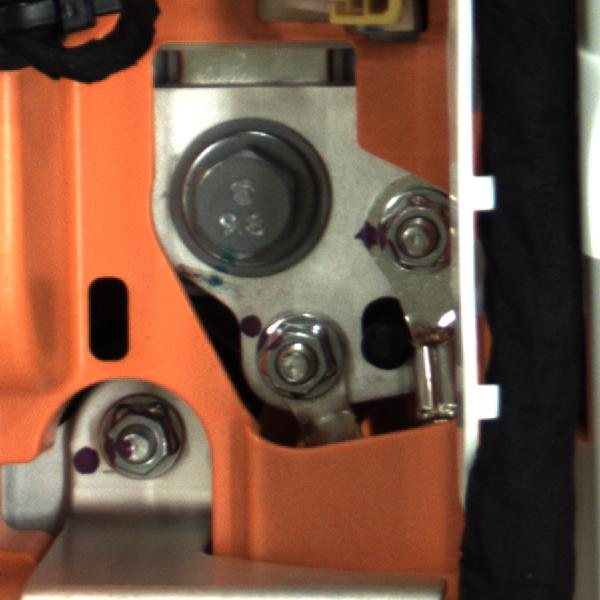nut_b: (161, 122, 333, 277)
screw_s: (249, 315, 356, 414), (366, 199, 463, 288), (89, 399, 180, 481)
